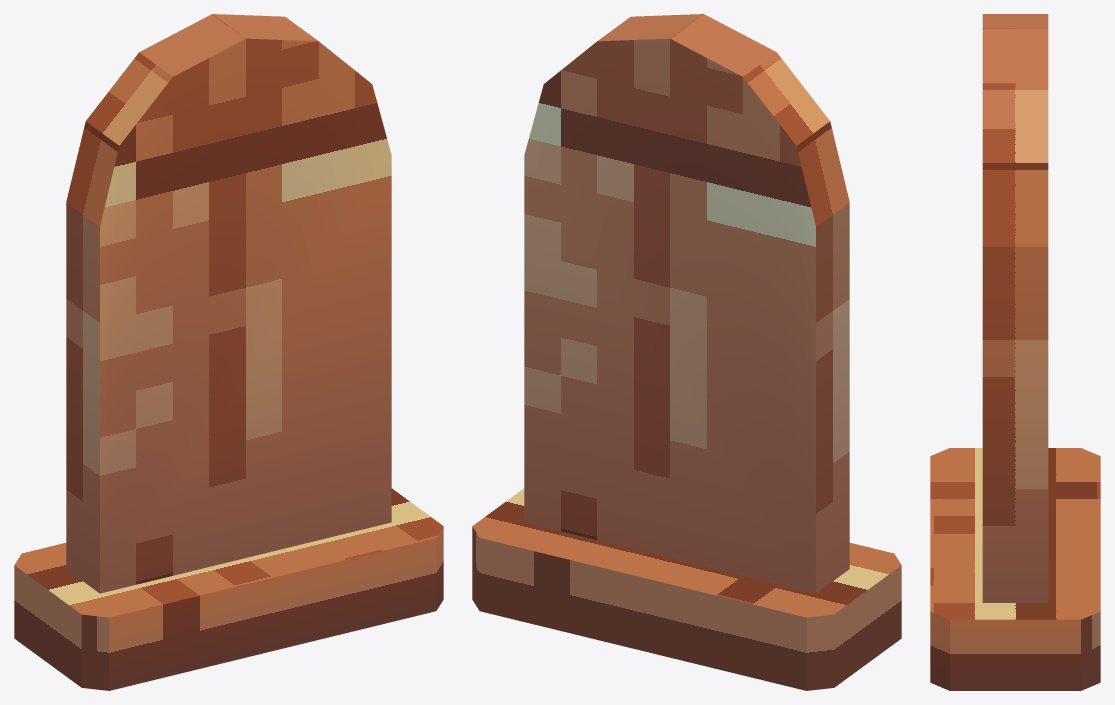
The model's file is wprop.tombstone.glb.
3 views of the same model, side by side, from view 1: azimuth 30°, elevation 25°; view 2: azimuth 150°, elevation 25°; view 3: azimuth 270°, elevation 25° (orthographic). The views are drawn at different scales.
Parts seen in each view (by area): view 1: kit_stone, kit_plinth; view 2: kit_stone, kit_plinth; view 3: kit_stone, kit_plinth.
Part boxes in pixels (x1,y1,x2,y2): kit_stone: [66, 14, 391, 593]; kit_plinth: [14, 488, 443, 690]; kit_stone: [524, 14, 849, 593]; kit_plinth: [472, 488, 901, 690]; kit_stone: [982, 14, 1048, 602]; kit_plinth: [930, 448, 1100, 690].
Size of the model in its own units: 0.62 by 0.97 by 0.26.
1 material, 1 textured.
